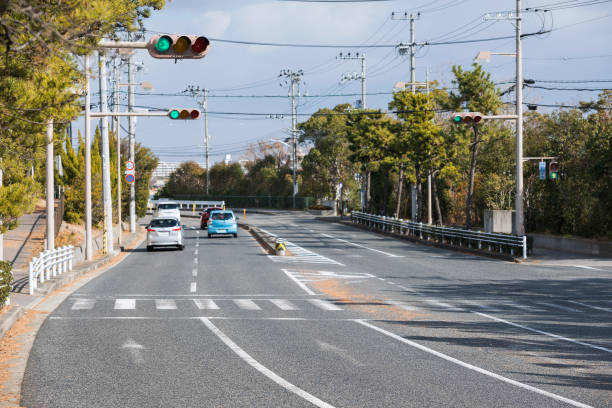trafficlight: (147, 31, 211, 59), (167, 107, 202, 121)
zebracross: (55, 287, 343, 321)
